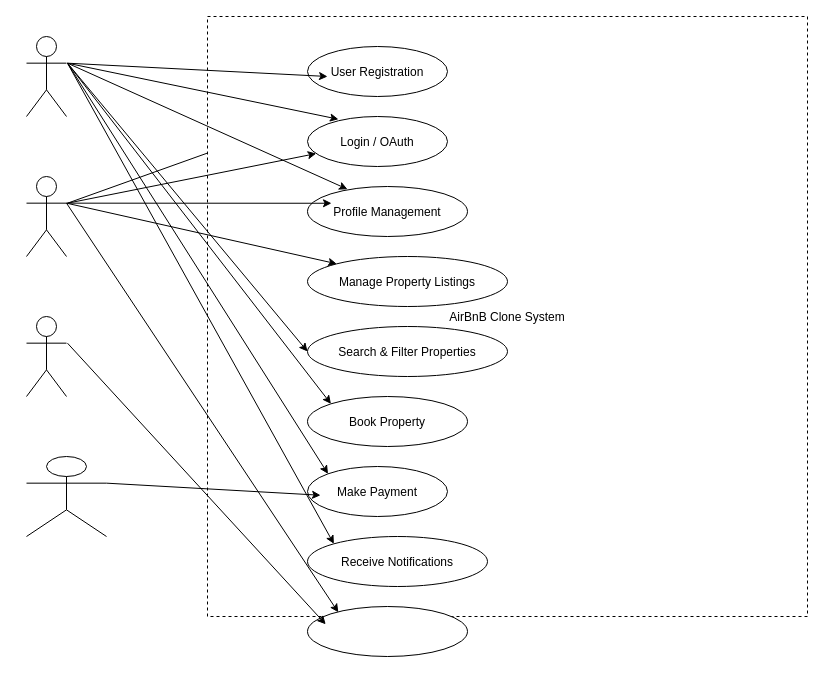
This 824x673 diagram has some shape labels left out. Here are the shapes that lost their labels. From the top down, the centre of each, then its label:
the point at 46,76: Guest
the point at 46,216: Host
the point at 46,356: Admin
the point at 66,496: Payment Gateway
the point at 387,631: Admin Dashboard
